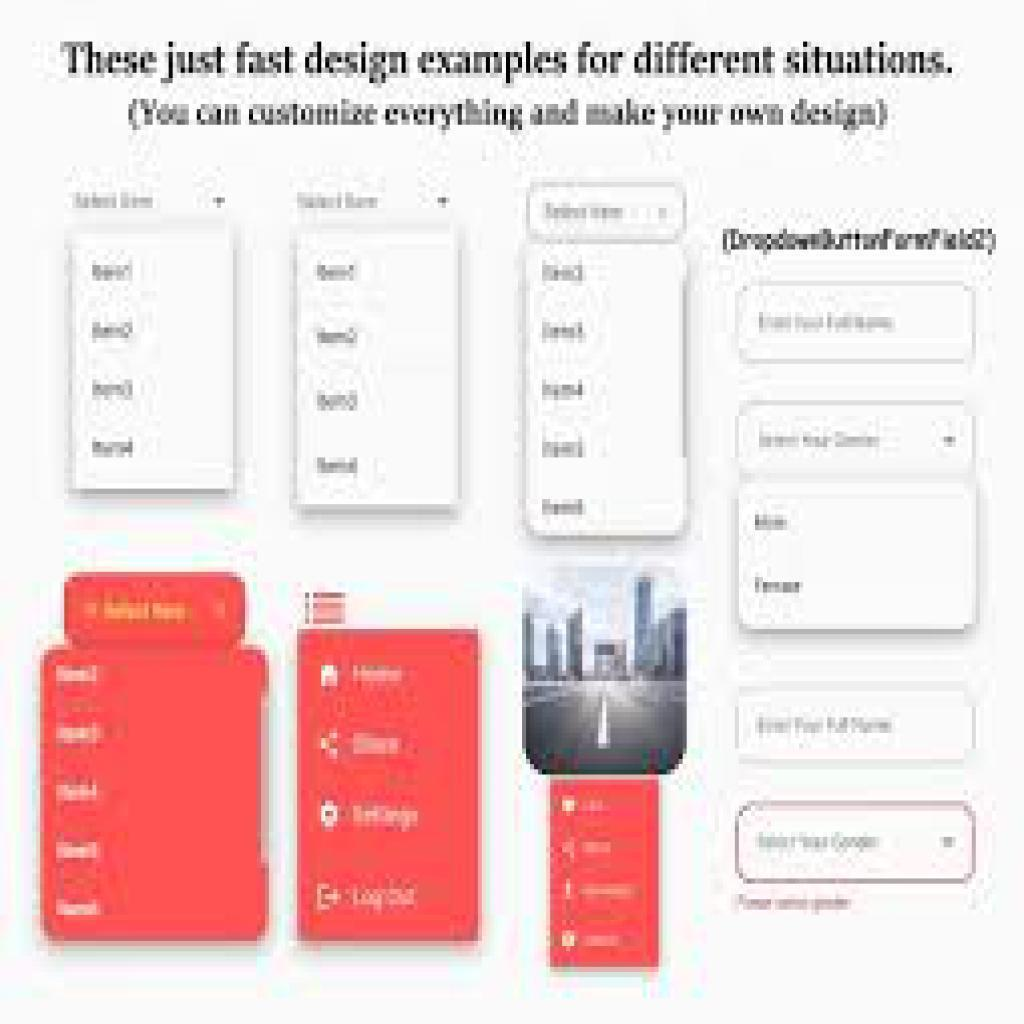dropdown: (734, 801, 973, 880), (743, 406, 973, 464), (66, 175, 236, 226), (286, 173, 459, 223), (529, 188, 685, 243)
input: (736, 281, 975, 359), (736, 689, 973, 761)
